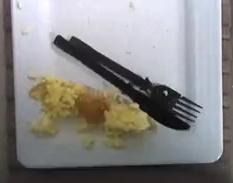scrambled_eggs: (28, 76, 150, 147)
